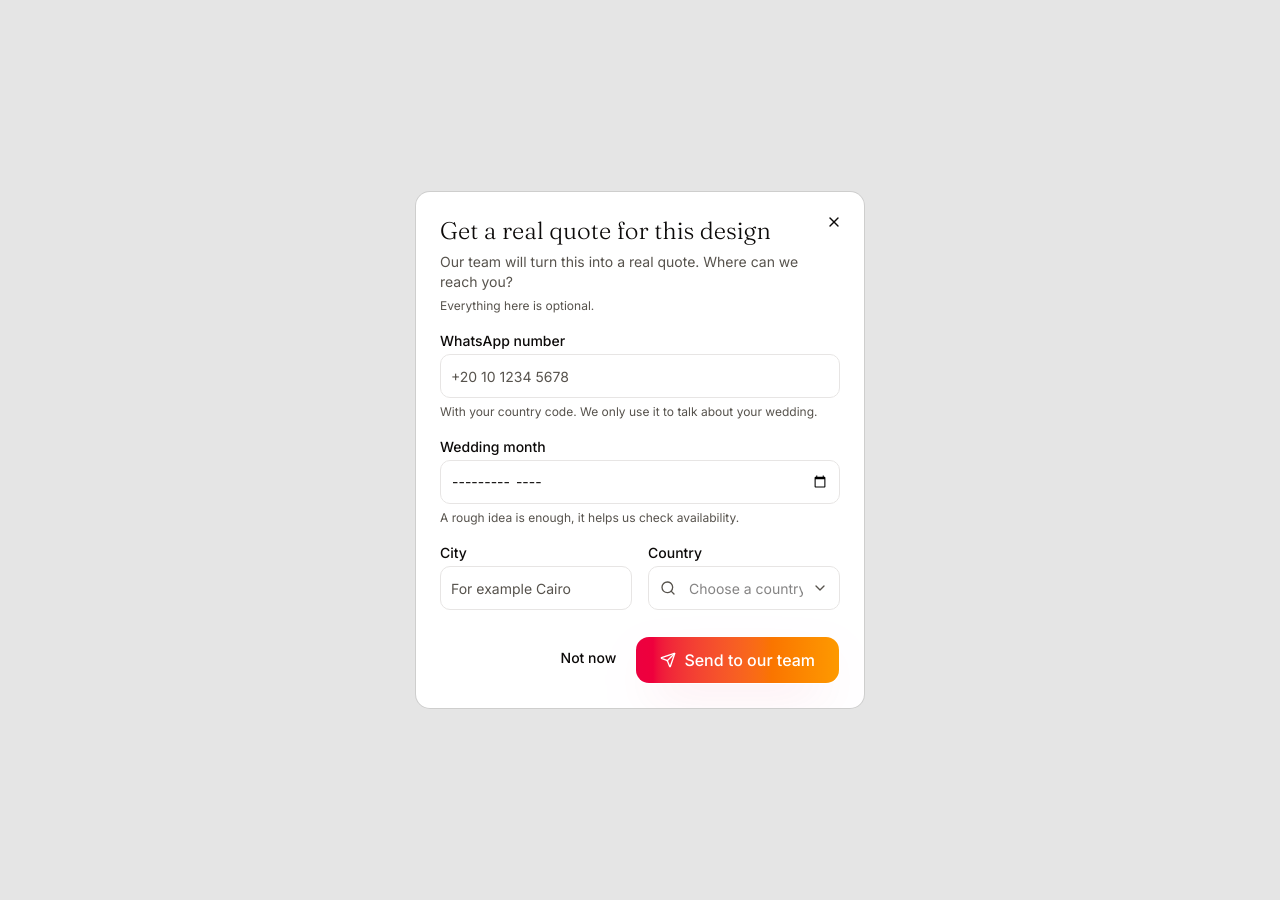
ApproveDesignDialog › shows what happens next and a WhatsApp chat that names the design
Click the button "Send to our team" at (738, 660), box [635,636,840,684]
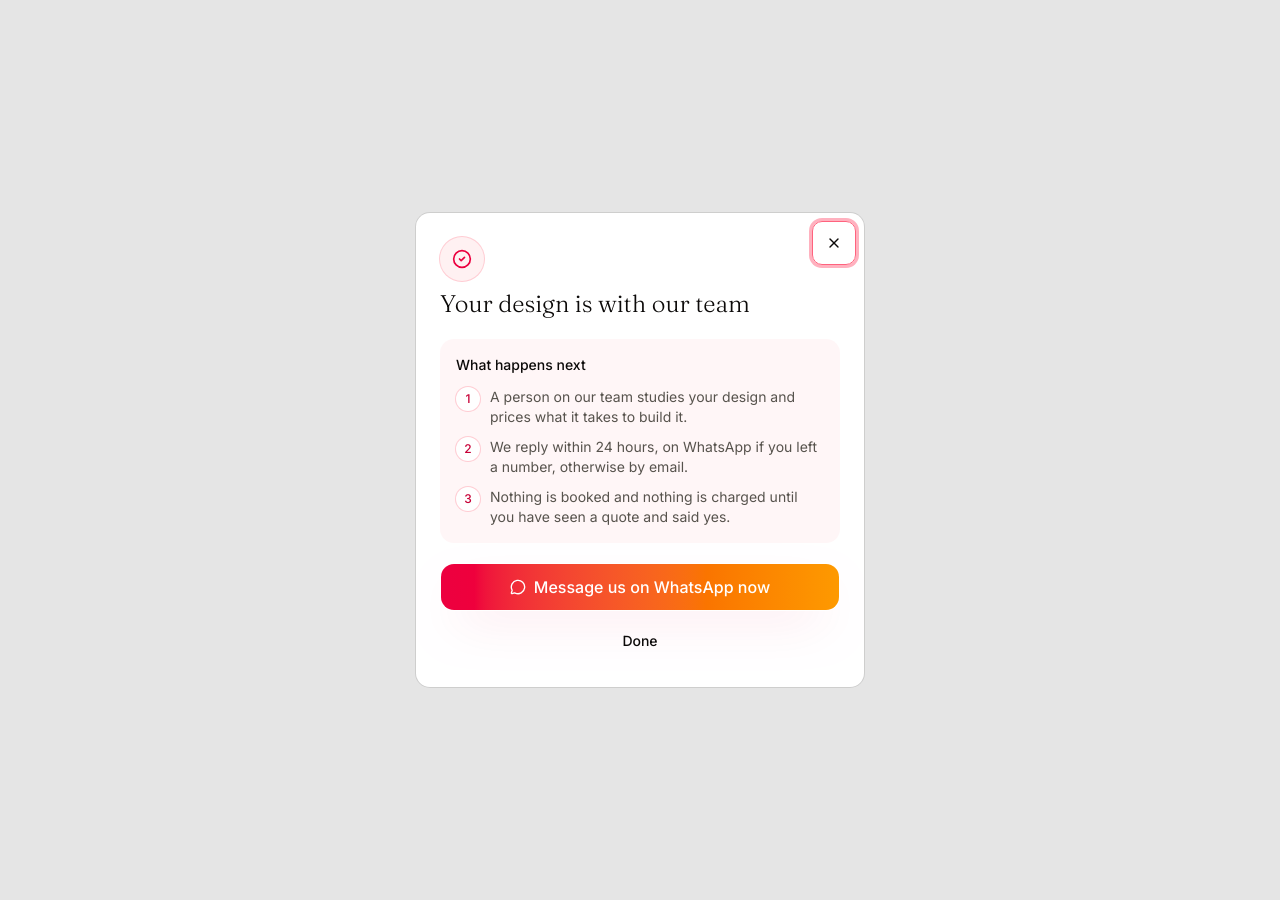
Check: the heading "Your design is with our team" is shown, box [440,289,750,318]
Check: the heading "What happens next" is shown, box [456,356,586,373]
Check: the text "We reply within 24 hours" is shown, box [490,438,817,475]
